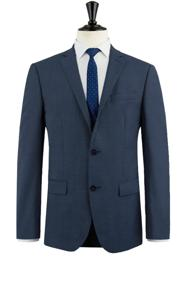F_M_suit jacket: (16, 47, 171, 249)
F_tie: (84, 47, 105, 120)
